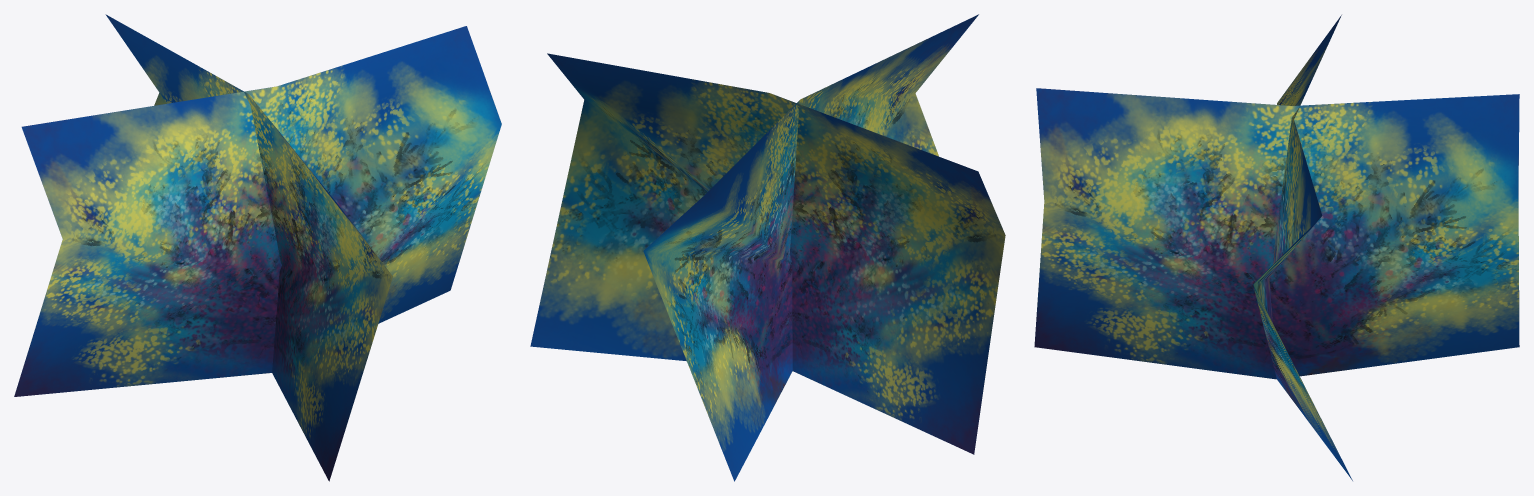
File: soft coral 2 .fbx
3 renders of one model, left to right at view 1: azimuth 30°, elevation 25°; view 2: azimuth 150°, elevation 25°; view 3: azimuth 270°, elevation 25°, orthographic. The views are drawn at different scales.
Visible parts, largest first — view 1: soft coral 2; view 2: soft coral 2; view 3: soft coral 2.
Part boxes in pixels (x1=…): soft coral 2: x1=14, y1=14, x2=501, y2=481; soft coral 2: x1=530, y1=14, x2=1005, y2=481; soft coral 2: x1=1034, y1=15, x2=1519, y2=480.
Size of the model in its own units: 50 by 30.29 by 50.
